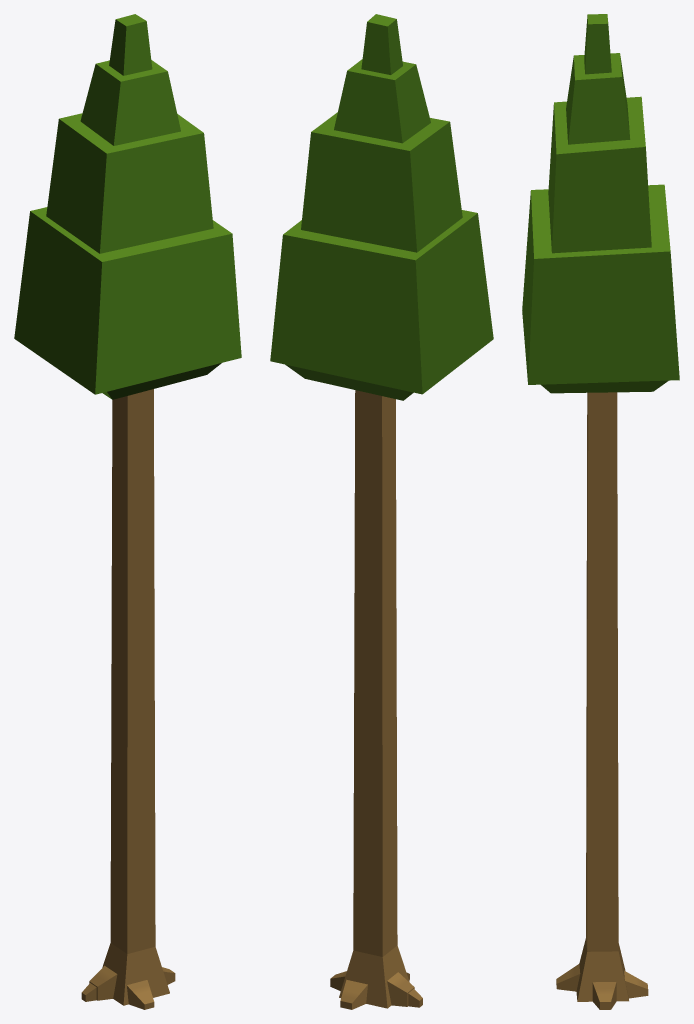
Rendered from SmallMore_SF_Env_Tree_012.fbx.
The picture shows the model from 3 angles, left to right: view 1: azimuth 30°, elevation 25°; view 2: azimuth 150°, elevation 25°; view 3: azimuth 270°, elevation 25°; orthographic projection.
Parts seen in each view (by area): view 1: SF_Env_Tree_012; view 2: SF_Env_Tree_012; view 3: SF_Env_Tree_012.
Boxes of the visible parts, x1,y1,x2,y2 form: SF_Env_Tree_012: [14, 14, 241, 1009]; SF_Env_Tree_012: [270, 14, 493, 1009]; SF_Env_Tree_012: [522, 14, 679, 1009].
Size of the model in its own units: 202 by 1217 by 179.
